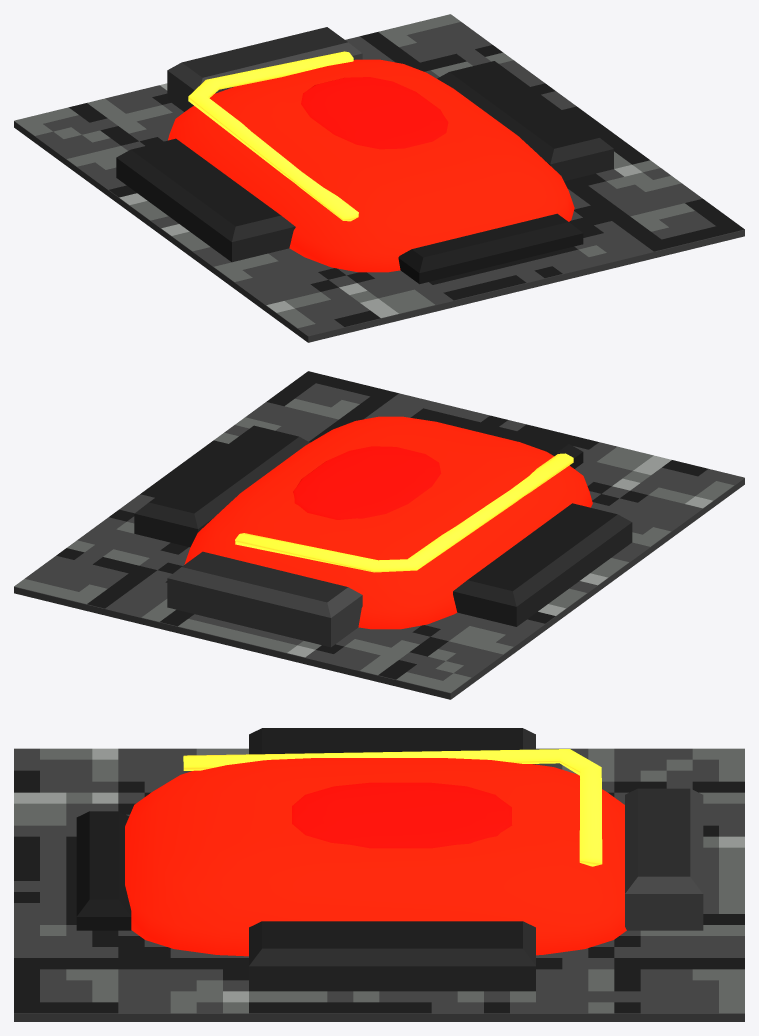
The model's file is newshs-229.glb.
3 views of the same model, one above another, from view 1: azimuth 30°, elevation 25°; view 2: azimuth 150°, elevation 25°; view 3: azimuth 270°, elevation 25° (orthographic). The views are drawn at different scales.
Parts seen in each view (by area): view 1: newshs-229; view 2: newshs-229; view 3: newshs-229.
Part boxes in pixels (bbox=[...]): newshs-229: bbox=[14, 14, 744, 342]; newshs-229: bbox=[14, 371, 744, 699]; newshs-229: bbox=[14, 728, 744, 1021].
Bounding box in the file's own units: 2 × 0.285 × 2.33.
